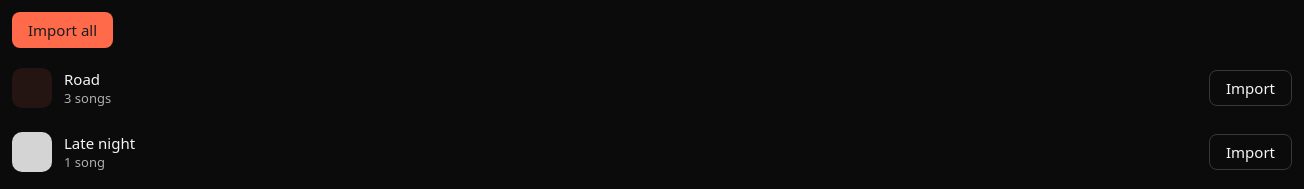
Test: YouTubePlaylists › imports one playlist as a linked local playlist without a duplicate song
expect the text "Road" is shown: met, box [64,69,100,89]
What coordinates should you click on to do the following:
click the button "Import" in the row of "Road"
I would click on:
 (1250, 88)
Its box is [1209,70,1292,106].
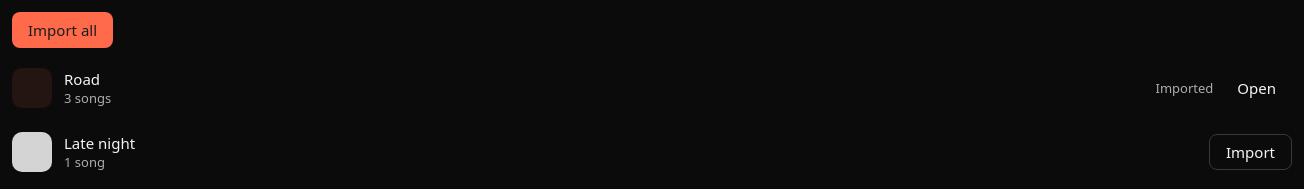
expect the text "Road" is shown: met, box [64,69,100,89]
expect the text "Imported" is shown: met, box [1156,79,1213,97]
expect the button "Open" is shown: met, box [1221,70,1292,106]
